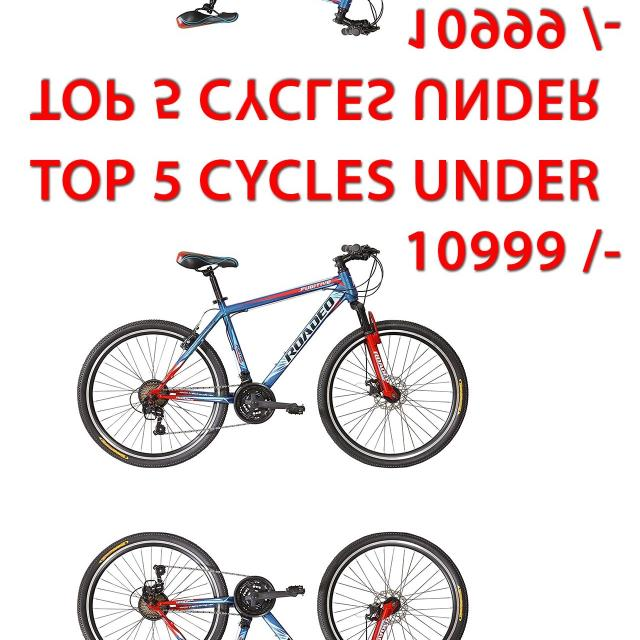obstacle: (83, 234, 473, 500), (83, 500, 473, 640), (83, 0, 473, 46)
